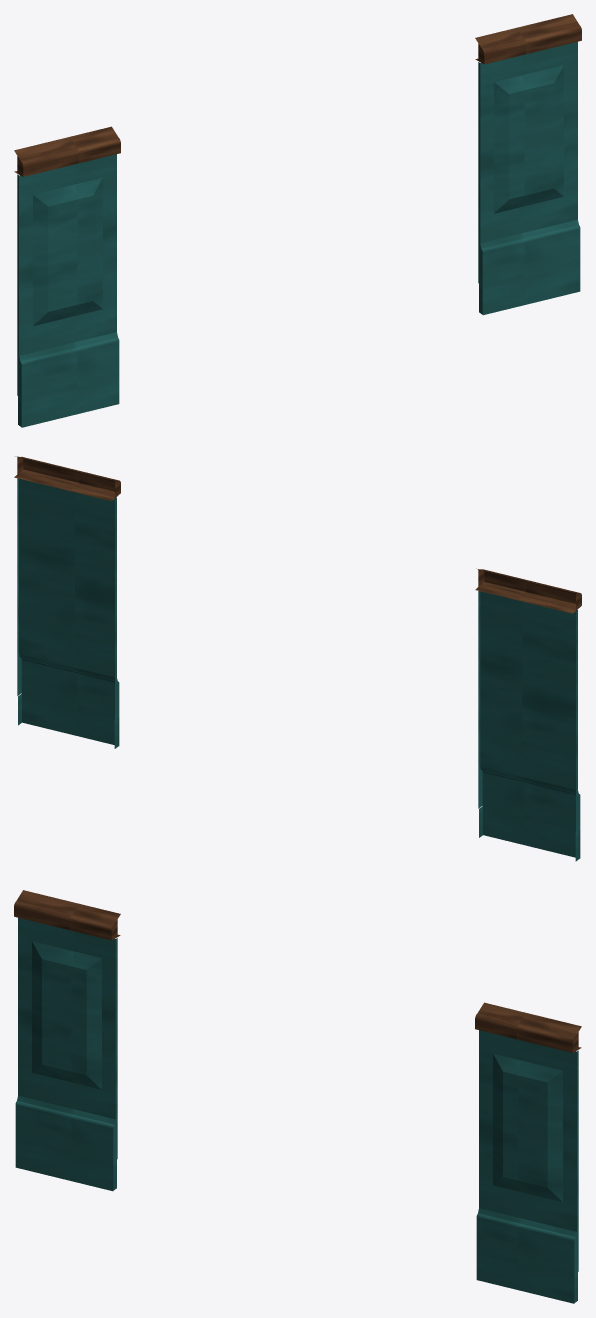
File: wainscot-doorway.glb
3 renders of one model, top to bottom at view 1: azimuth 30°, elevation 25°; view 2: azimuth 150°, elevation 25°; view 3: azimuth 330°, elevation 25°, orthographic.
Parts seen in each view (by area): view 1: WainscotDoorway_tealPaint, WainscotDoorway_oakDark; view 2: WainscotDoorway_tealPaint, WainscotDoorway_oakDark; view 3: WainscotDoorway_tealPaint, WainscotDoorway_oakDark.
Boxes of the visible parts, x1,y1,x2,y2 form: WainscotDoorway_tealPaint: (17, 41, 580, 427); WainscotDoorway_oakDark: (14, 14, 581, 176); WainscotDoorway_tealPaint: (17, 478, 580, 861); WainscotDoorway_oakDark: (14, 456, 581, 613); WainscotDoorway_tealPaint: (15, 917, 578, 1303); WainscotDoorway_oakDark: (14, 890, 581, 1052).
Size of the model in its own units: 2 by 0.93 by 0.057.
2 materials, 2 textured.
